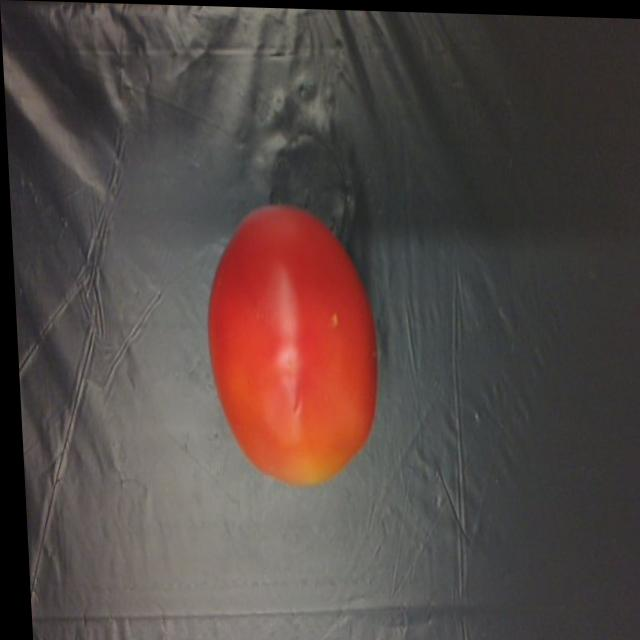kirmizi: (184, 196, 394, 486)
